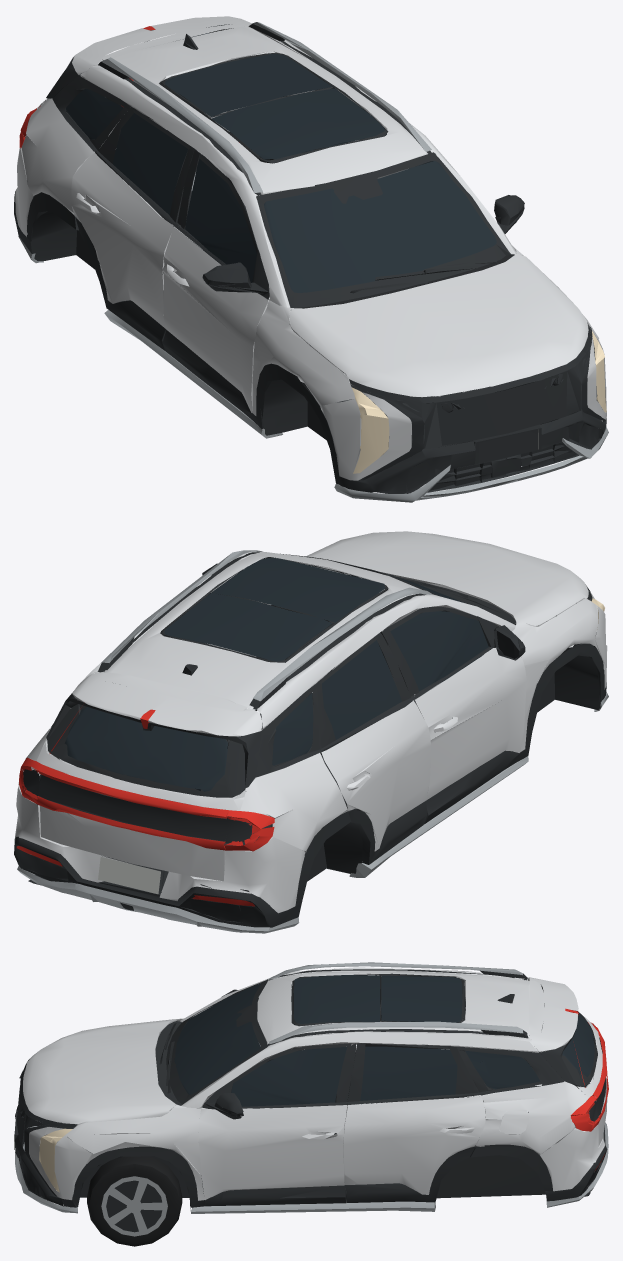
The model's file is suv-urban.glb.
3 views of the same model, one above another, from view 1: azimuth 30°, elevation 25°; view 2: azimuth 150°, elevation 25°; view 3: azimuth 270°, elevation 25° (orthographic). The views are drawn at different scales.
Visible parts, largest first — view 1: Car body, Car trim, Car glazing, Car wheel discs, Car headlamps; view 2: Car body, Car trim, Car glazing, Car wheel discs, Car tail lamps, Car plates; view 3: Car body, Car trim, Car glazing, Car wheel discs, Wheel tyre, Wheel rim, Wheel well, Car tail lamps, Car headlamps.
Boxes of the visible parts, left/top/right/bottom form: Car body: left=15, top=16, right=606, bottom=480; Car trim: left=14, top=24, right=606, bottom=493; Car glazing: left=66, top=32, right=496, bottom=292; Car wheel discs: left=18, top=22, right=608, bottom=502; Car headlamps: left=351, top=331, right=606, bottom=473; Car body: left=15, top=531, right=607, bottom=913; Car trim: left=14, top=551, right=606, bottom=932; Car glazing: left=64, top=558, right=488, bottom=791; Car wheel discs: left=17, top=550, right=608, bottom=933; Car tail lamps: left=16, top=707, right=274, bottom=906; Car plates: left=98, top=857, right=160, bottom=894; Car body: left=23, top=967, right=607, bottom=1200; Car trim: left=14, top=969, right=607, bottom=1213; Car glazing: left=174, top=974, right=594, bottom=1106; Car wheel discs: left=15, top=962, right=608, bottom=1213; Wheel tyre: left=87, top=1156, right=182, bottom=1246; Wheel rim: left=101, top=1176, right=167, bottom=1236; Wheel well: left=104, top=1176, right=164, bottom=1232; Car tail lamps: left=565, top=1008, right=608, bottom=1170; Car headlamps: left=39, top=1128, right=72, bottom=1192.
Bounding box in the file's own units: 2.14 × 1.71 × 4.48.
